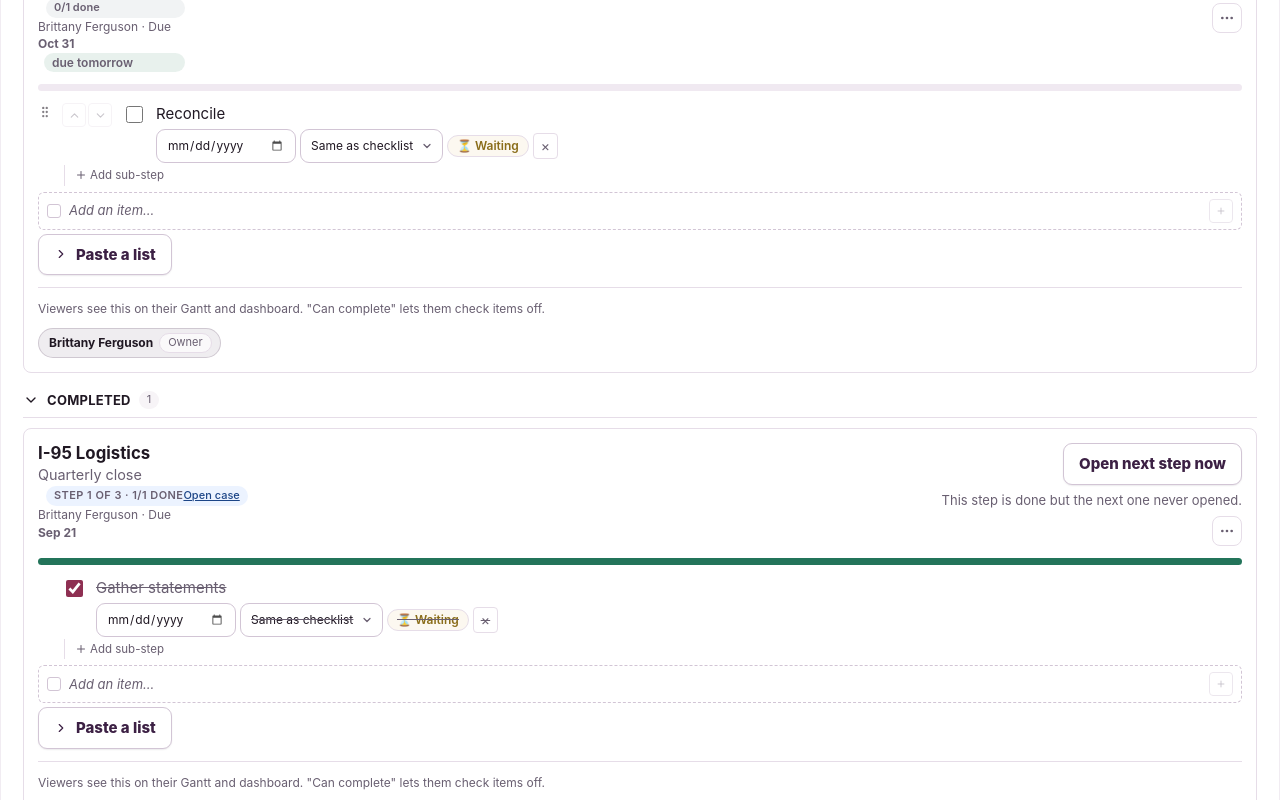
a jump to a finished step outside the report period (featreq-9c818fca) › opens the collapsed Completed group to show it, and the group can still be folded away
The width and height of the screenshot is (1280, 800).
(page scrolled)
Click the button with class "checklist-group-header".
click(89, 400)  # box [23, 383, 1257, 418]
(page scrolled)
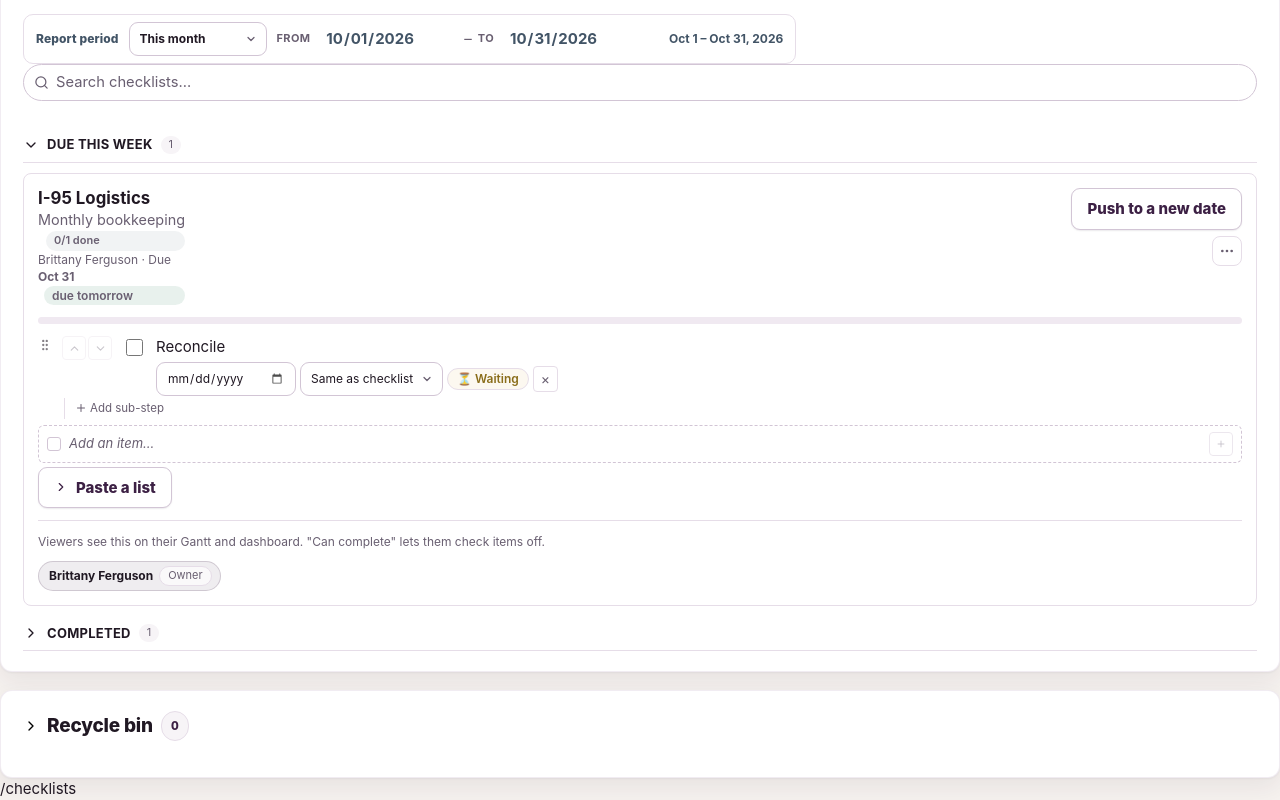
Now the button with class "checklist-group-header" is collapsed, box [23, 616, 1257, 651]
